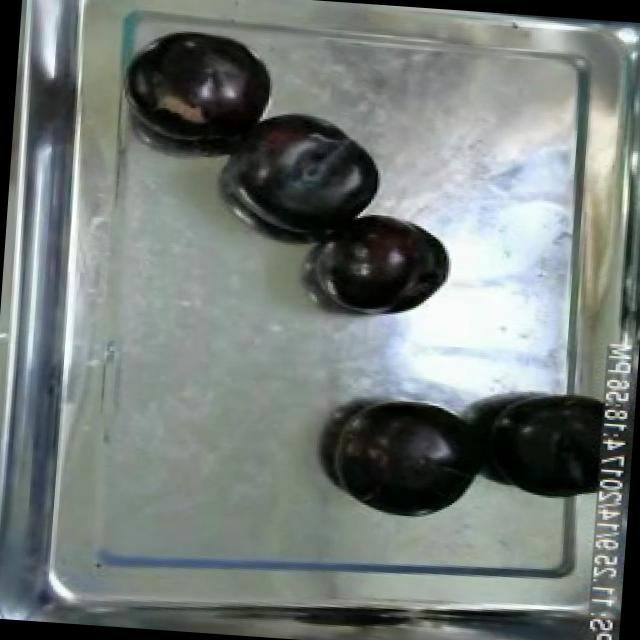Fruit: (318, 387, 492, 526), (228, 106, 386, 244), (127, 24, 280, 148), (316, 206, 456, 323)
